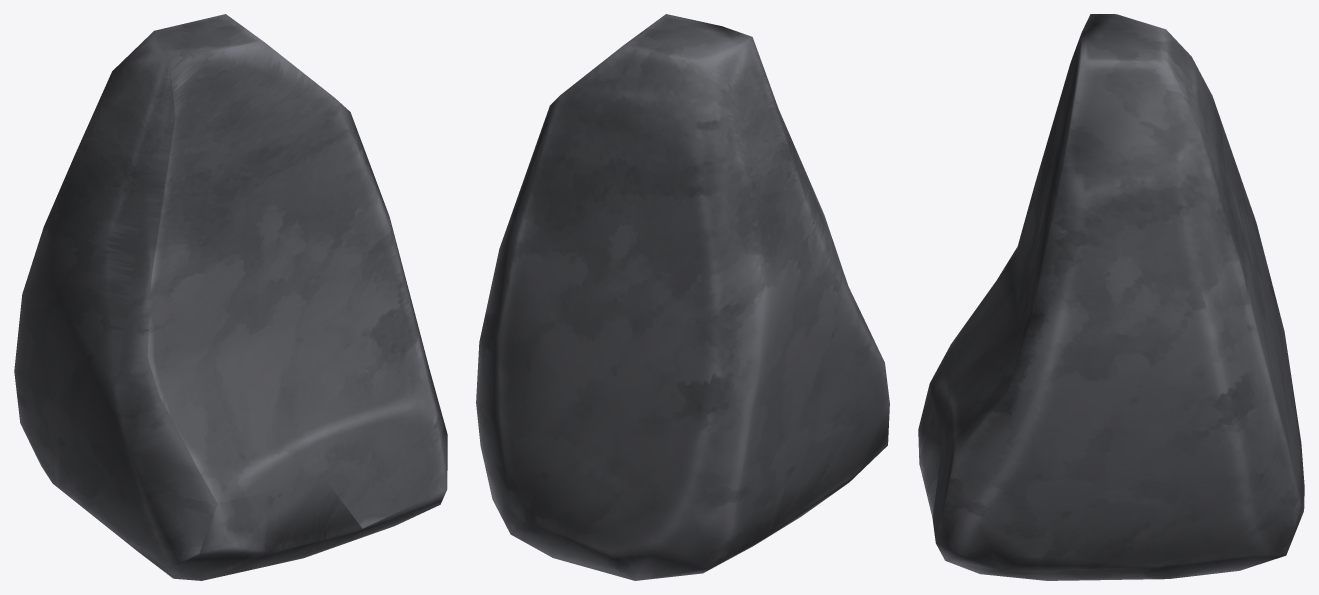
The model's file is Stone4_v1.fbx.
3 views of the same model, side by side, from view 1: azimuth 30°, elevation 25°; view 2: azimuth 150°, elevation 25°; view 3: azimuth 270°, elevation 25° (orthographic).
Visible parts, largest first — view 1: Stone4_v1; view 2: Stone4_v1; view 3: Stone4_v1.
Boxes of the visible parts, x1,y1,x2,y2 form: Stone4_v1: (14,14,447,580); Stone4_v1: (476,14,889,580); Stone4_v1: (918,14,1304,580).
Bounding box in the file's own units: 134 × 200 × 144.
Materials: 1 (1 with a texture image).
